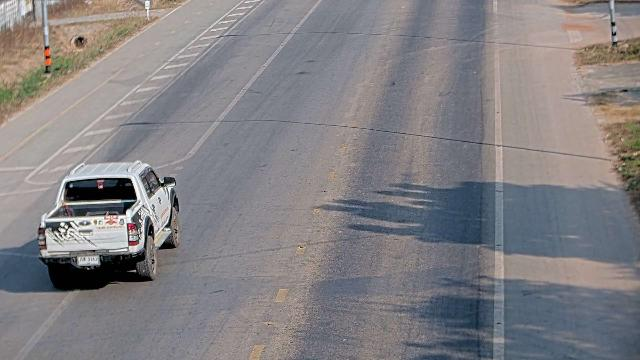pickup-truck: (36, 159, 180, 290)
